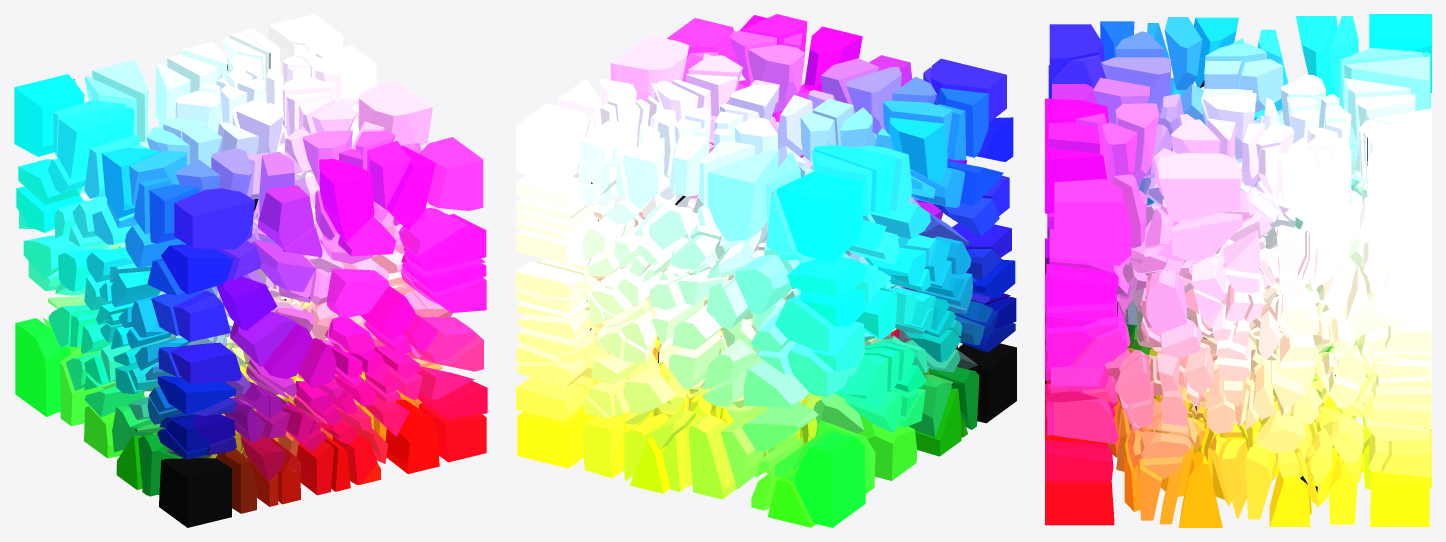
3 renders of one model, left to right at view 1: azimuth 30°, elevation 25°; view 2: azimuth 150°, elevation 25°; view 3: azimuth 270°, elevation 25°, orthographic. The views are drawn at different scales.
Parts seen in each view (by area): view 1: Object_2, Object_3; view 2: Object_2, Object_3; view 3: Object_2, Object_3.
Part boxes in pixels (left/top/right/bottom): Object_2: left=14, top=14, right=487, bottom=527; Object_3: left=100, top=53, right=343, bottom=369; Object_2: left=516, top=14, right=1016, bottom=527; Object_3: left=517, top=109, right=933, bottom=409; Object_2: left=1045, top=14, right=1431, bottom=527; Object_3: left=1145, top=120, right=1429, bottom=472.
Bounding box in the file's own units: 330 × 330 × 330.
1 material, 1 textured.
